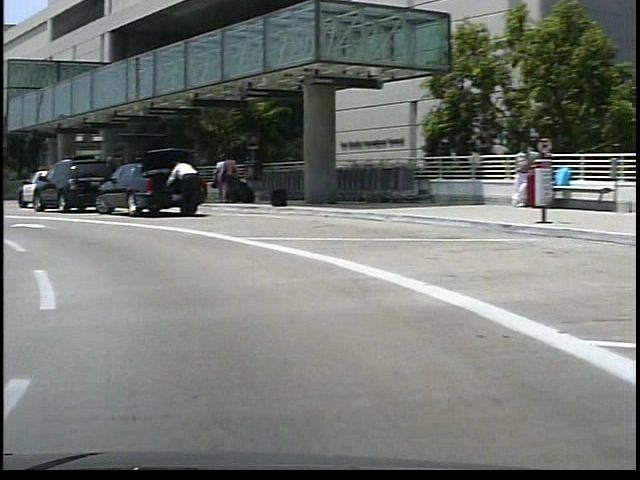person: (160, 160, 200, 223), (217, 154, 236, 209), (207, 155, 225, 208)
